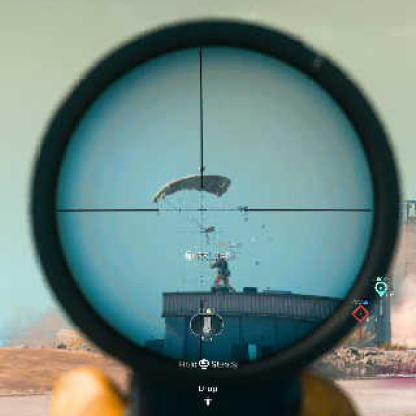enemy: (208, 252, 234, 294)
